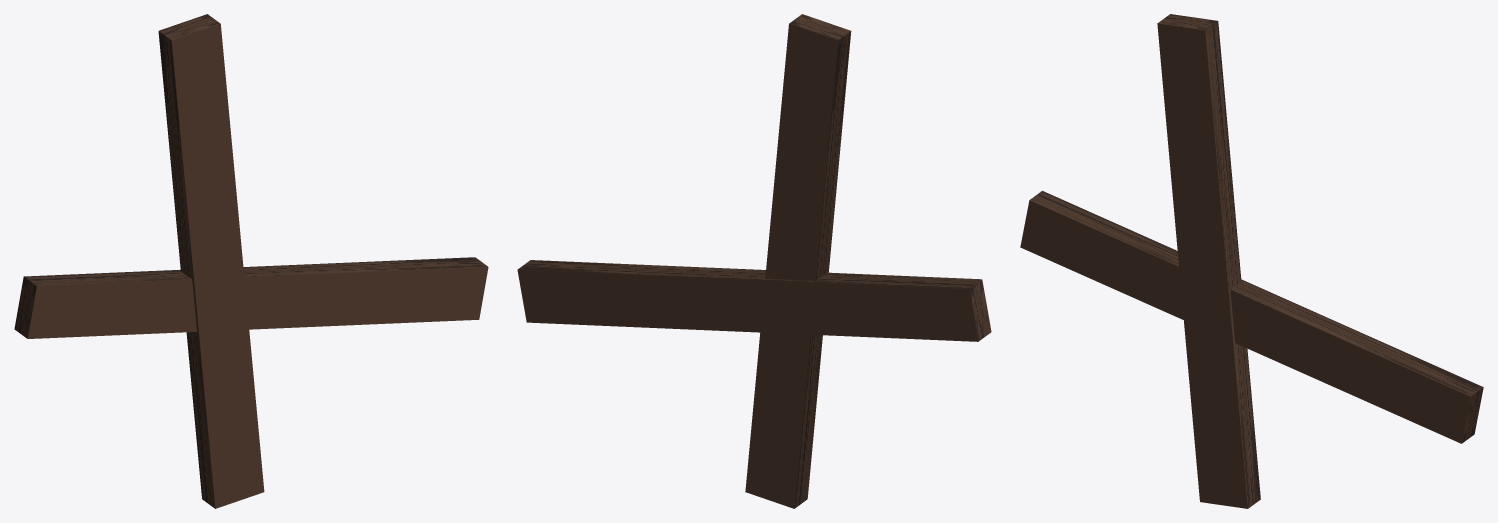
Rendered from pz_g018_fencing_damaged_01_170.obj.
3 renders of one model, left to right at view 1: azimuth 30°, elevation 25°; view 2: azimuth 150°, elevation 25°; view 3: azimuth 330°, elevation 25°, orthographic. The views are drawn at different scales.
Parts seen in each view (by area): view 1: pz_g018_fencing_damaged_01_170; view 2: pz_g018_fencing_damaged_01_170; view 3: pz_g018_fencing_damaged_01_170.
Boxes of the visible parts, x1=… form: pz_g018_fencing_damaged_01_170: x1=14, y1=14, x2=488, y2=508; pz_g018_fencing_damaged_01_170: x1=517, y1=14, x2=991, y2=508; pz_g018_fencing_damaged_01_170: x1=1020, y1=14, x2=1483, y2=508.
Size of the model in its own units: 0.8419 by 0.8447 by 0.048.
1 material, 1 textured.
